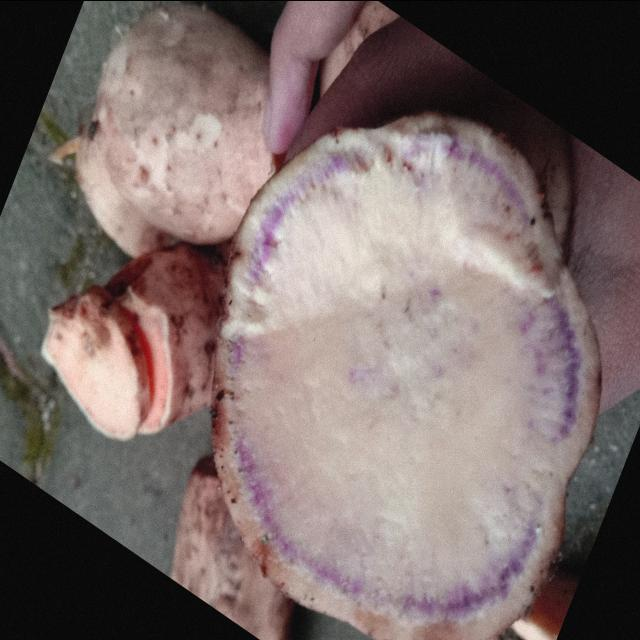Healthy Sweet Potato: (212, 113, 600, 637)
